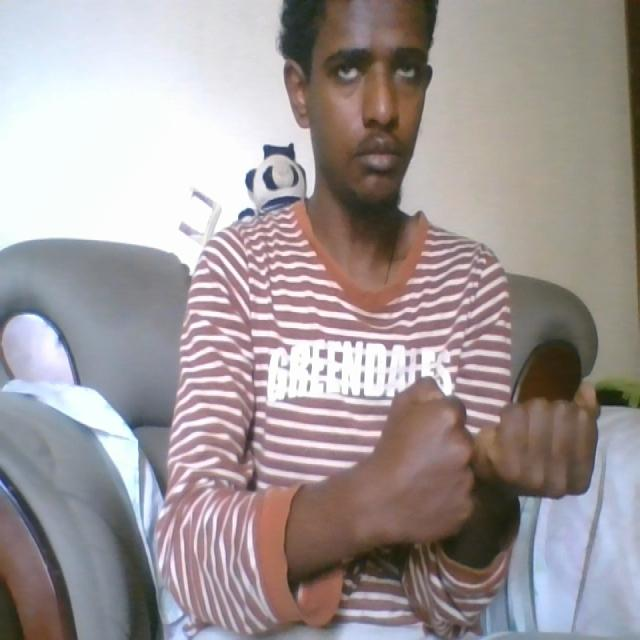beg: (343, 366, 607, 564)
